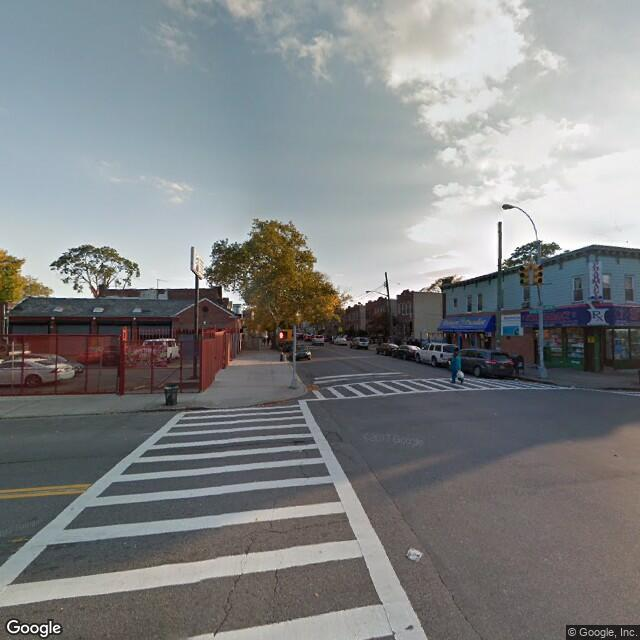litter: (404, 546, 424, 562)
